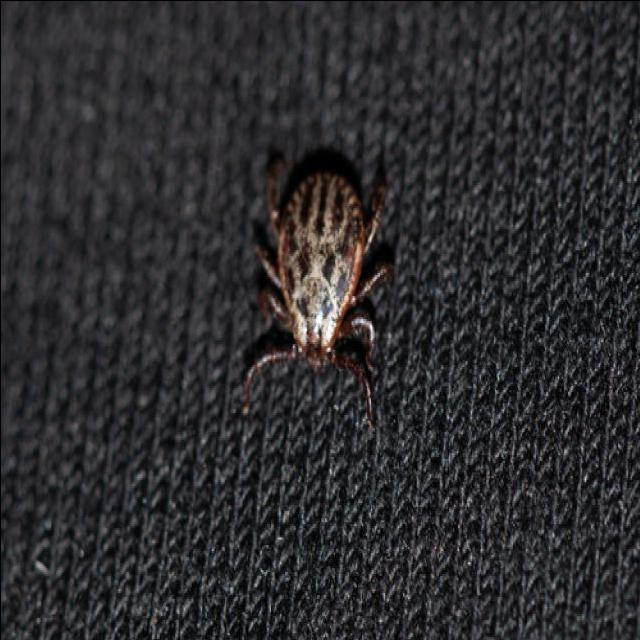Dermacentor Reticulatus-M: (242, 158, 393, 427)
